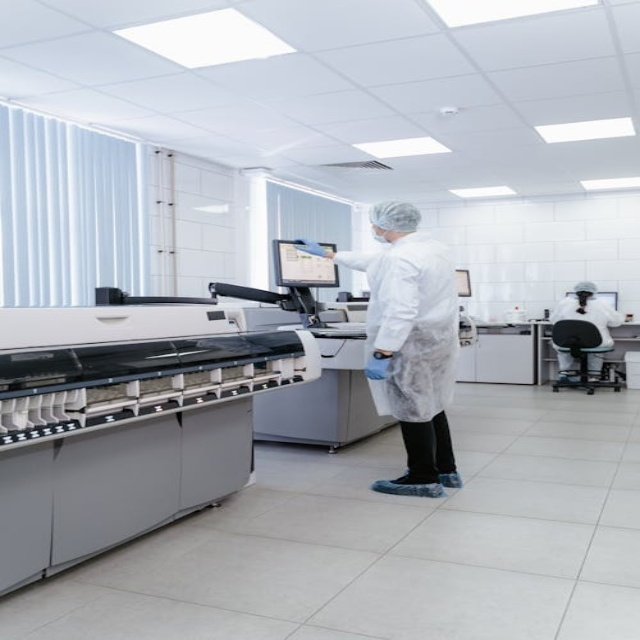Guantes: (364, 353, 392, 380), (294, 238, 329, 258)
Mascara: (367, 221, 396, 246)
